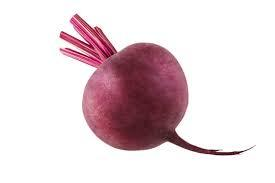non-mango: (81, 41, 189, 150)
